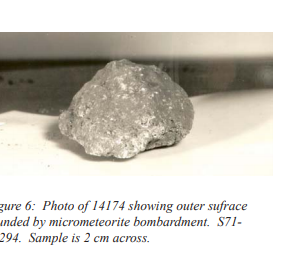Breccia: (55, 55, 184, 158)
